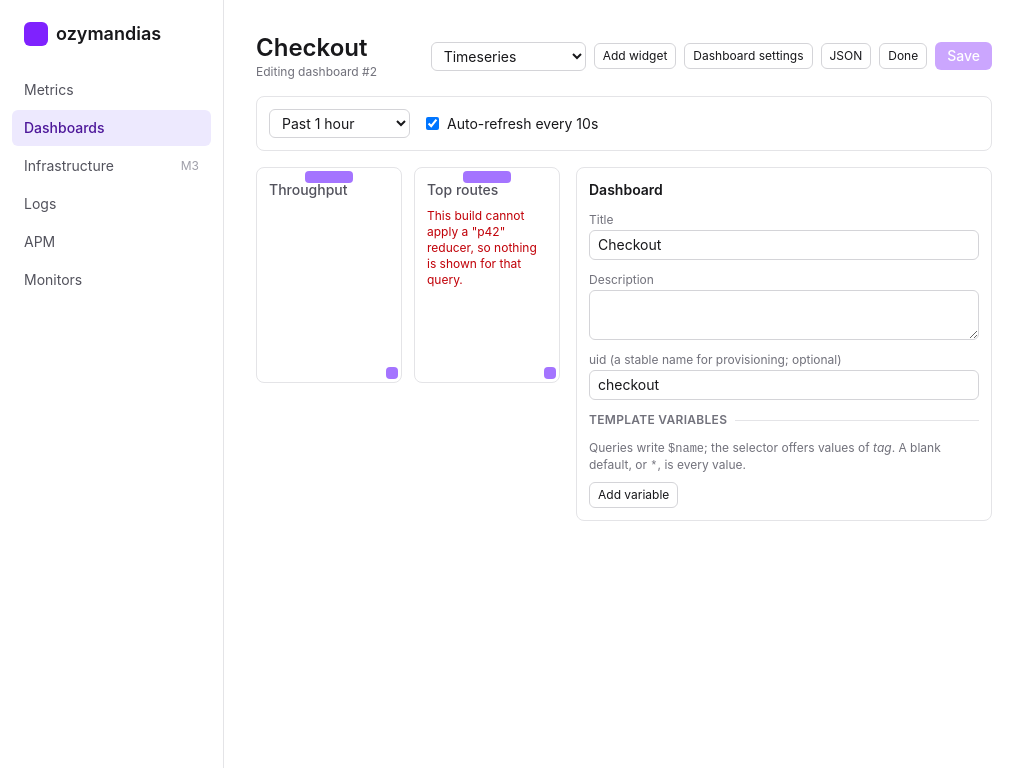
Scenario: saving › shows a conflict in the server's words rather than guessing which conflict
Expected: the heading "Checkout" is shown, 256,32 -> 377,64
Type "!" into the field labelled "Title" at [784, 245], box 589,230 -> 979,260
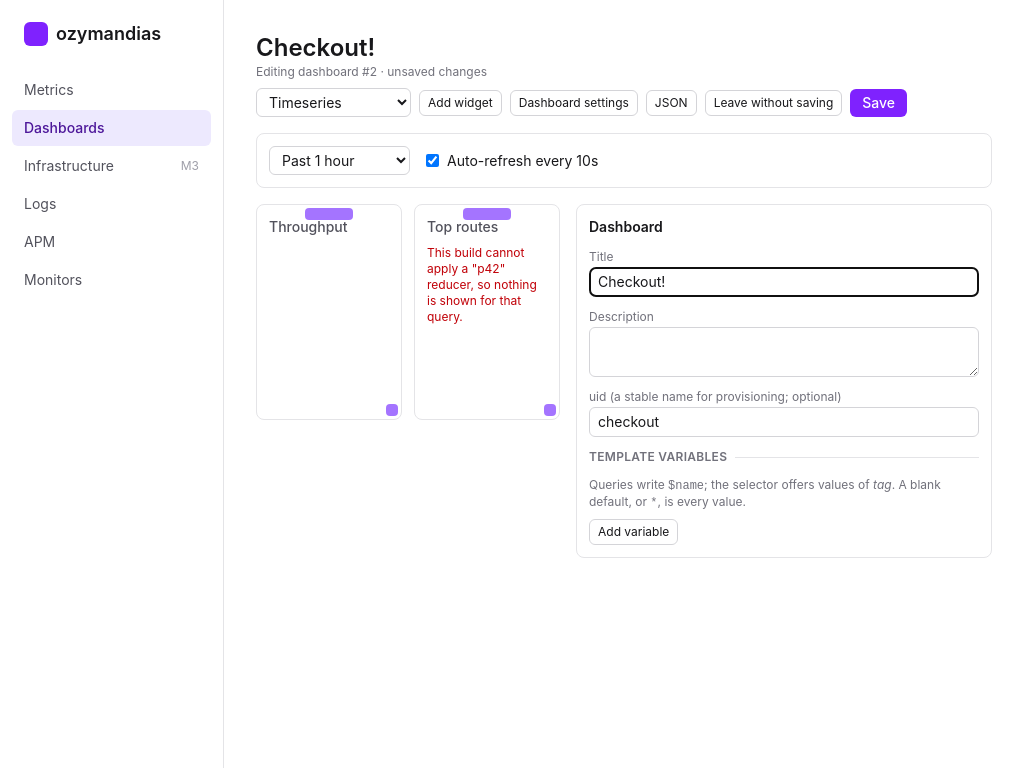
Click the button "Save" at [879, 102], box 850,88 -> 907,116
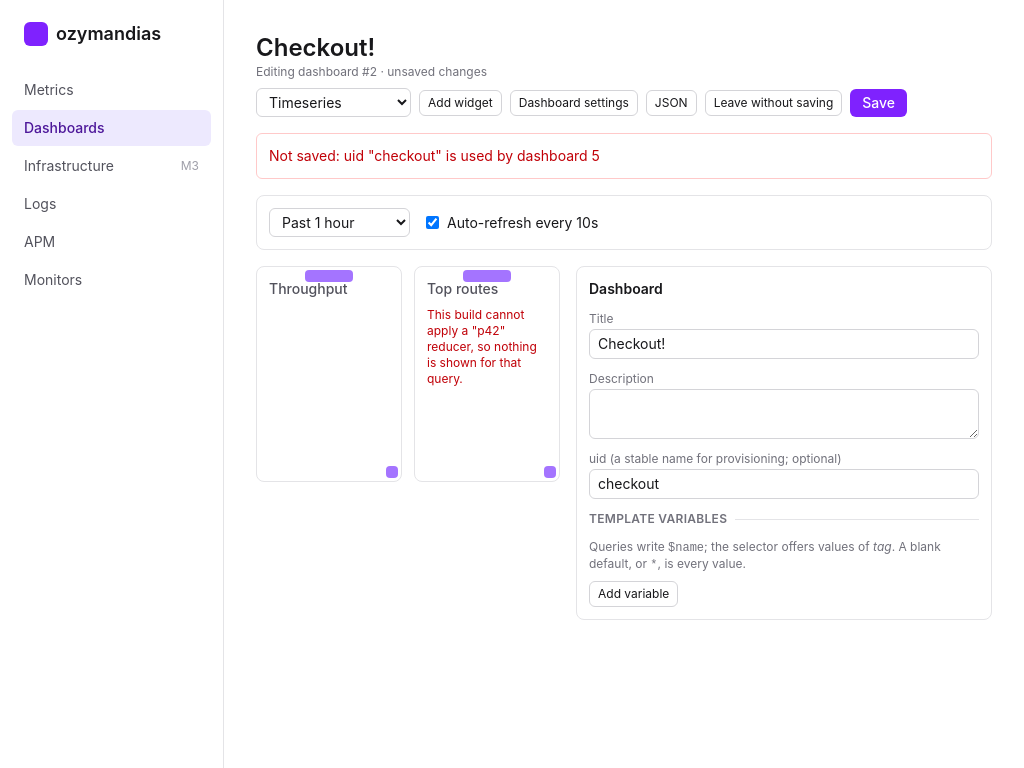
Expected: the text "Not saved: uid \"checkout\" is used by dashboard 5" is shown, 269,147 -> 600,164
